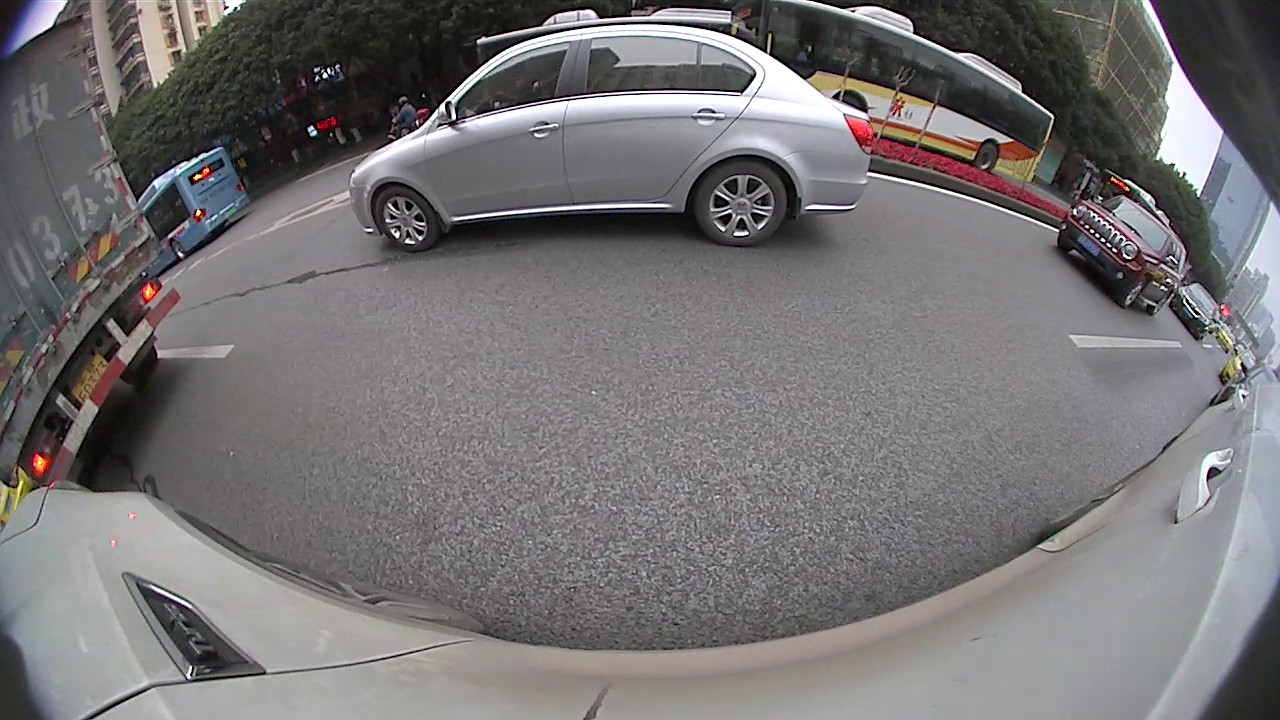bus: (728, 2, 1057, 191), (139, 151, 258, 269), (471, 9, 734, 62), (1093, 169, 1169, 227)
car: (351, 20, 874, 253), (1059, 194, 1188, 318), (1168, 287, 1223, 341)
front: (373, 184, 442, 253), (1117, 273, 1148, 310)
rear: (691, 155, 788, 248), (973, 140, 999, 171)
rider: (386, 99, 430, 141)
truck: (1, 19, 173, 493)
